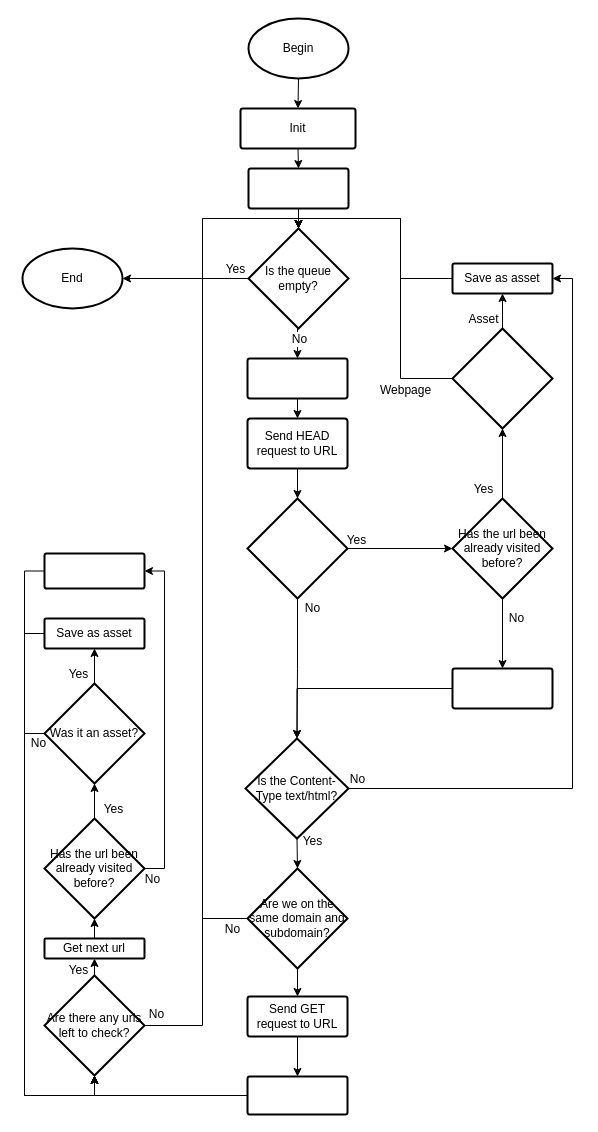
The diagram is 598 pixels wide and 1132 high, and some of its shapes have lost their labels. Each missing label, with the box of its shape:
Add first url to queue: (247, 167, 349, 209)
Add url to queue: (43, 552, 145, 589)
Dequeue url from queue: (246, 357, 348, 399)
Fetch URLs from webpage: (246, 1075, 348, 1115)
Save redirection: (451, 667, 553, 709)
Was it an asset or a webpage?: (451, 327, 553, 429)
Were there any redirections?: (246, 497, 348, 599)
